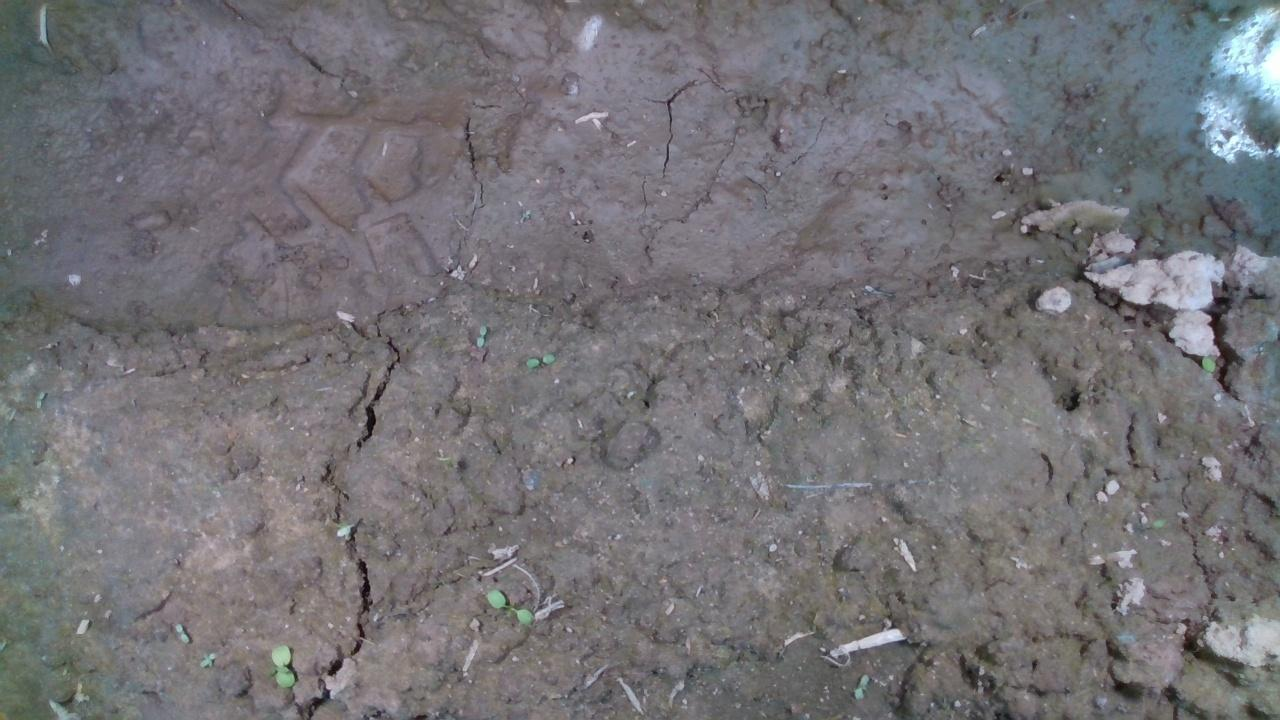weed: (521, 347, 576, 373), (454, 323, 498, 351), (167, 616, 205, 647), (199, 650, 220, 668)
